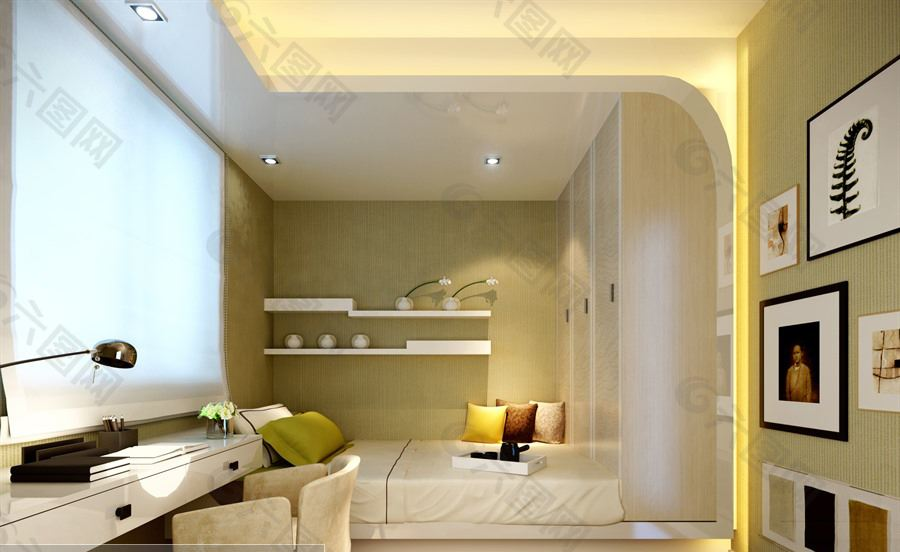床: (340, 443, 627, 539)
枕头: (247, 408, 342, 469), (458, 401, 559, 451)
灯: (0, 334, 141, 389), (130, 3, 168, 26), (479, 155, 501, 171), (257, 155, 279, 167)
